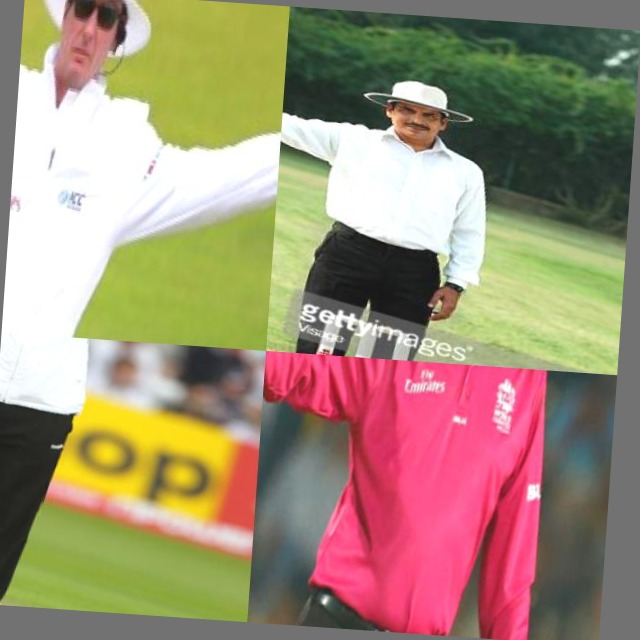No_Ball: (247, 351, 617, 640), (266, 8, 532, 368)
Six: (0, 333, 265, 622)
Wide: (1, 0, 290, 351)
